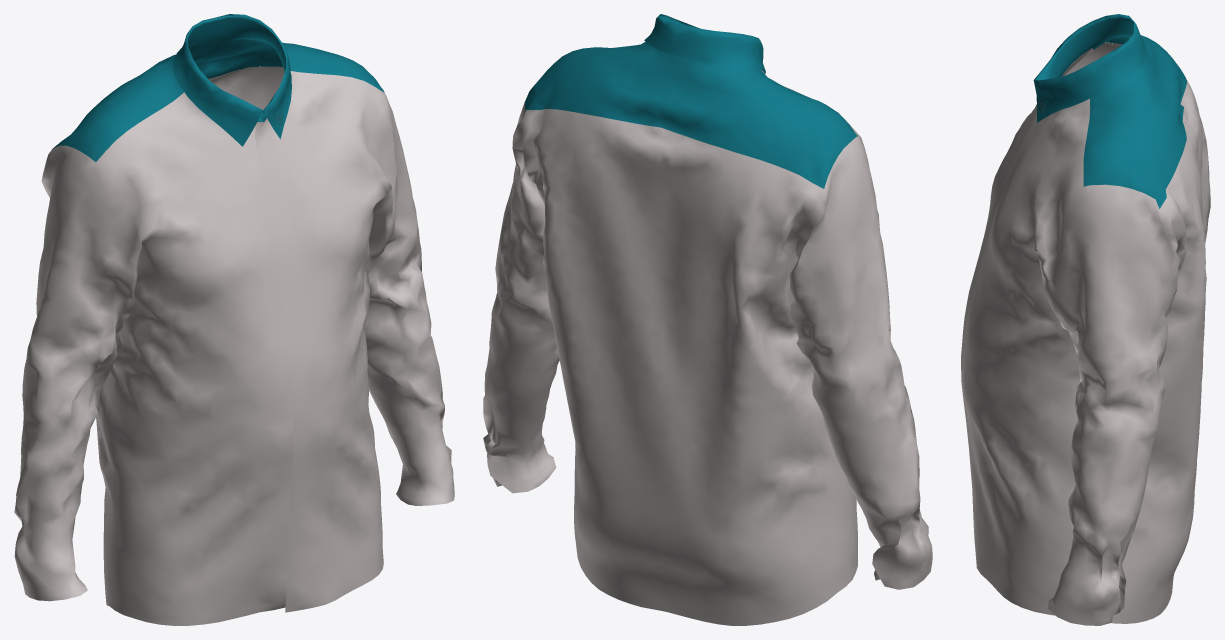
File: male_shirt_1.glb
The picture shows the model from 3 angles, left to right: view 1: azimuth 30°, elevation 25°; view 2: azimuth 150°, elevation 25°; view 3: azimuth 270°, elevation 25°; orthographic projection. The views are drawn at different scales.
Visible parts, largest first — view 1: Object_3, Object_2; view 2: Object_3, Object_2; view 3: Object_3, Object_2.
Part boxes in pixels (x1=…): Object_3: x1=14, y1=66, x2=454, y2=625; Object_2: x1=52, y1=14, x2=384, y2=161; Object_3: x1=483, y1=70, x2=932, y2=625; Object_2: x1=524, y1=14, x2=857, y2=188; Object_3: x1=961, y1=42, x2=1210, y2=625; Object_2: x1=1033, y1=14, x2=1186, y2=208.
Size of the model in its own units: 655 by 820 by 335.
